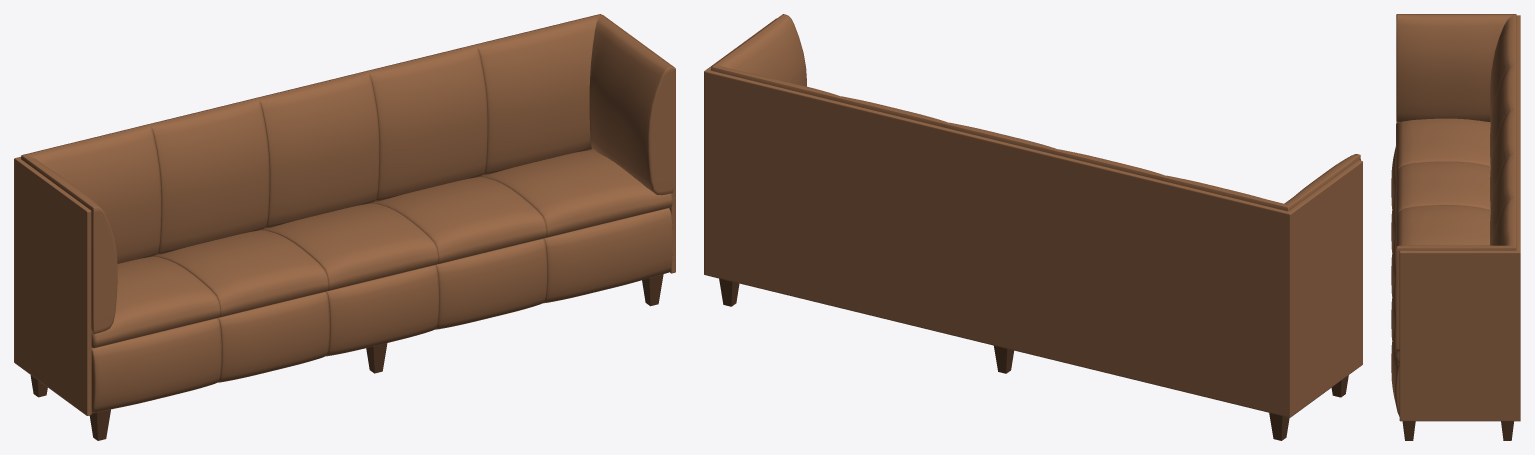
File: smoking_cushionedBench.fbx
The picture shows the model from 3 angles, left to right: view 1: azimuth 30°, elevation 25°; view 2: azimuth 150°, elevation 25°; view 3: azimuth 270°, elevation 25°; orthographic projection. The views are drawn at different scales.
Visible parts, largest first — view 1: polySurface119; view 2: polySurface119; view 3: polySurface119.
Boxes of the visible parts, left/top/right/bottom form: polySurface119: left=14, top=14, right=675, bottom=440; polySurface119: left=704, top=14, right=1362, bottom=440; polySurface119: left=1391, top=14, right=1520, bottom=440.
Bounding box in the file's own units: 76.13 × 29.48 × 17.52.
